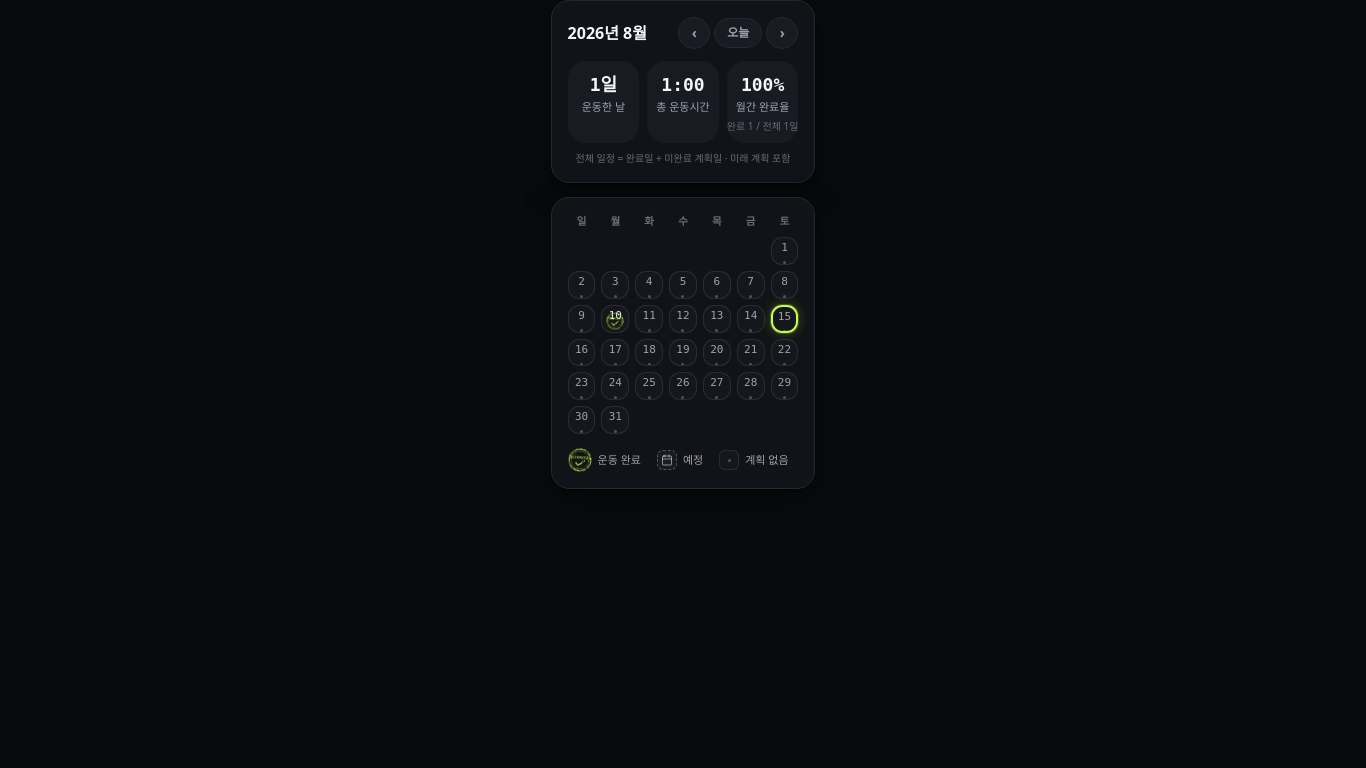
Test: CalendarView — 전신 인터벌 명칭 (2026-08-12) › 지난 인터벌 기록 줄도 전신 인터벌로 적는다
Check: the heading "2026년 8월" is shown, box x1=568 y1=21 x2=647 y2=45
Step 1. Click the button with aria-label "8월 10일," → (615, 319), box x1=601 y1=305 x2=629 y2=333
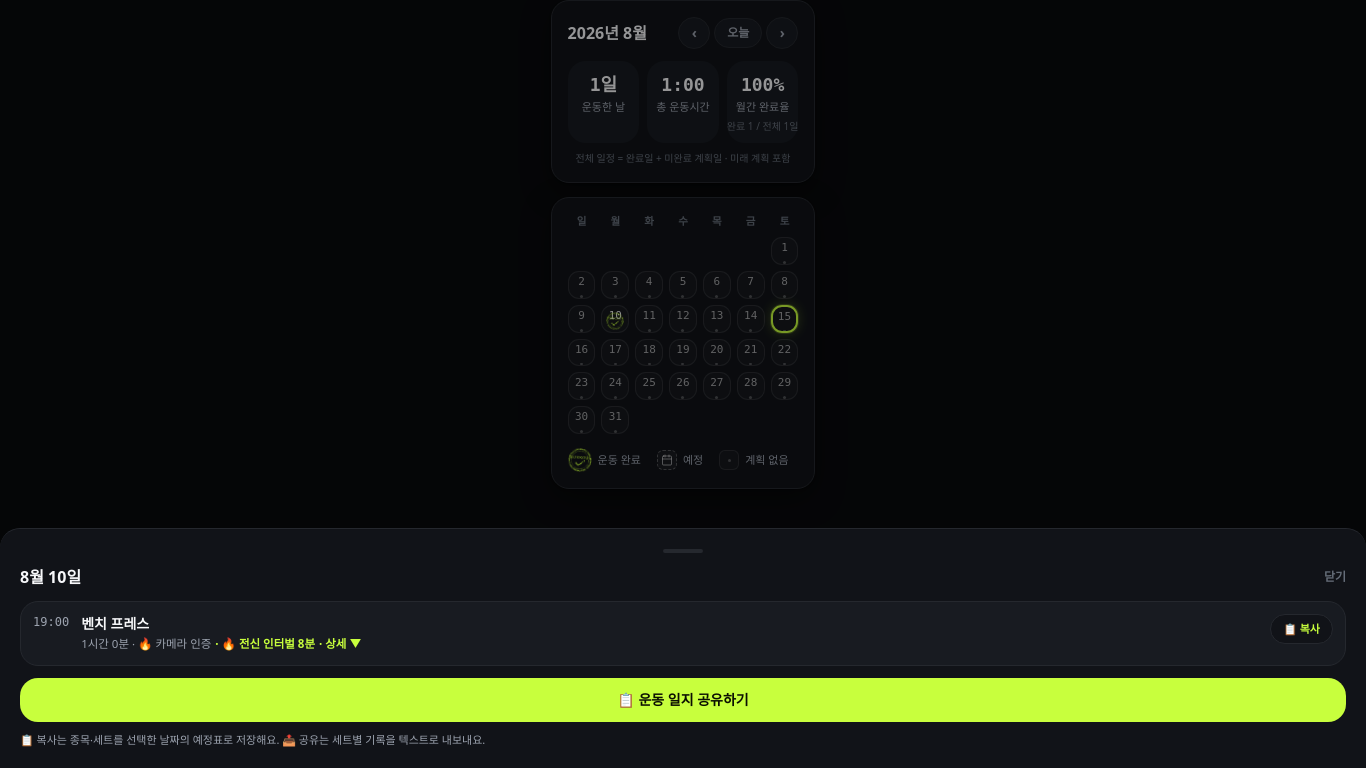
Check: the text "· 🔥 전신 인터벌 8분" is shown, box x1=215 y1=636 x2=315 y2=651
